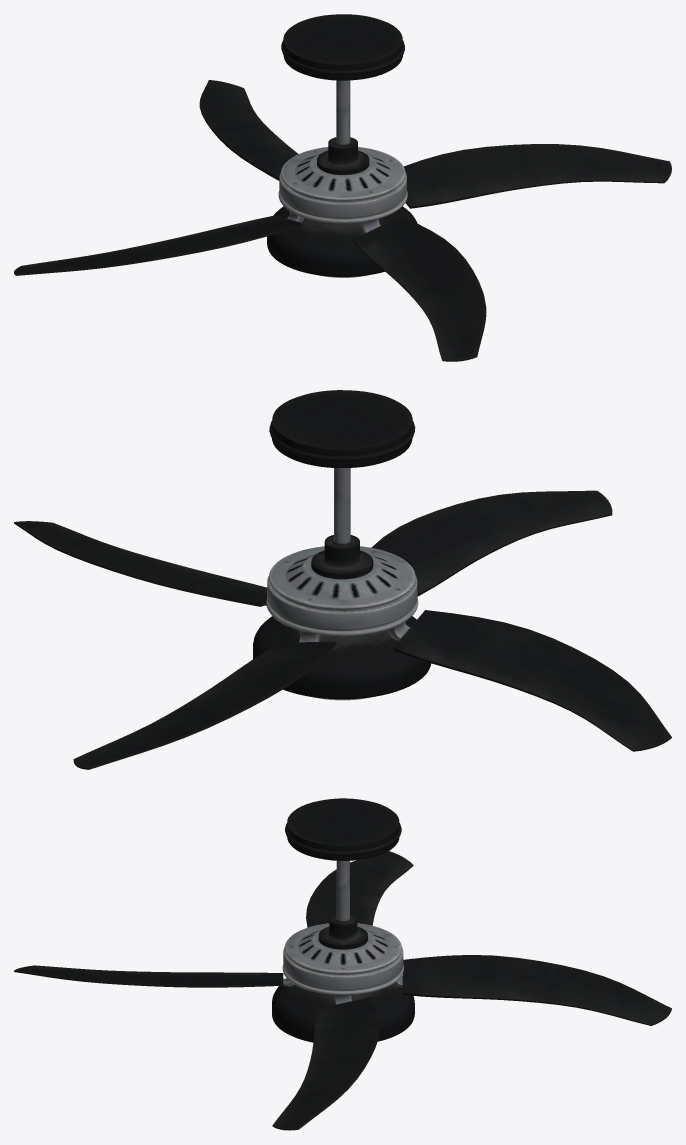
The model's file is ceiling_fan.gltf.
3 renders of one model, top to bottom at view 1: azimuth 30°, elevation 25°; view 2: azimuth 150°, elevation 25°; view 3: azimuth 270°, elevation 25°, orthographic. The views are drawn at different scales.
Visible parts, largest first — view 1: ceiling_fan_blades, ceiling_fan; view 2: ceiling_fan_blades, ceiling_fan; view 3: ceiling_fan_blades, ceiling_fan.
Boxes of the visible parts, bbox=[...] form: ceiling_fan_blades: bbox=[14, 80, 671, 361]; ceiling_fan: bbox=[267, 14, 417, 277]; ceiling_fan_blades: bbox=[14, 490, 671, 769]; ceiling_fan: bbox=[253, 390, 431, 700]; ceiling_fan_blades: bbox=[14, 851, 671, 1130]; ceiling_fan: bbox=[272, 798, 414, 1042].
Size of the model in its own units: 1.46 by 0.5163 by 1.46.
Materials: 1 (1 with a texture image).
